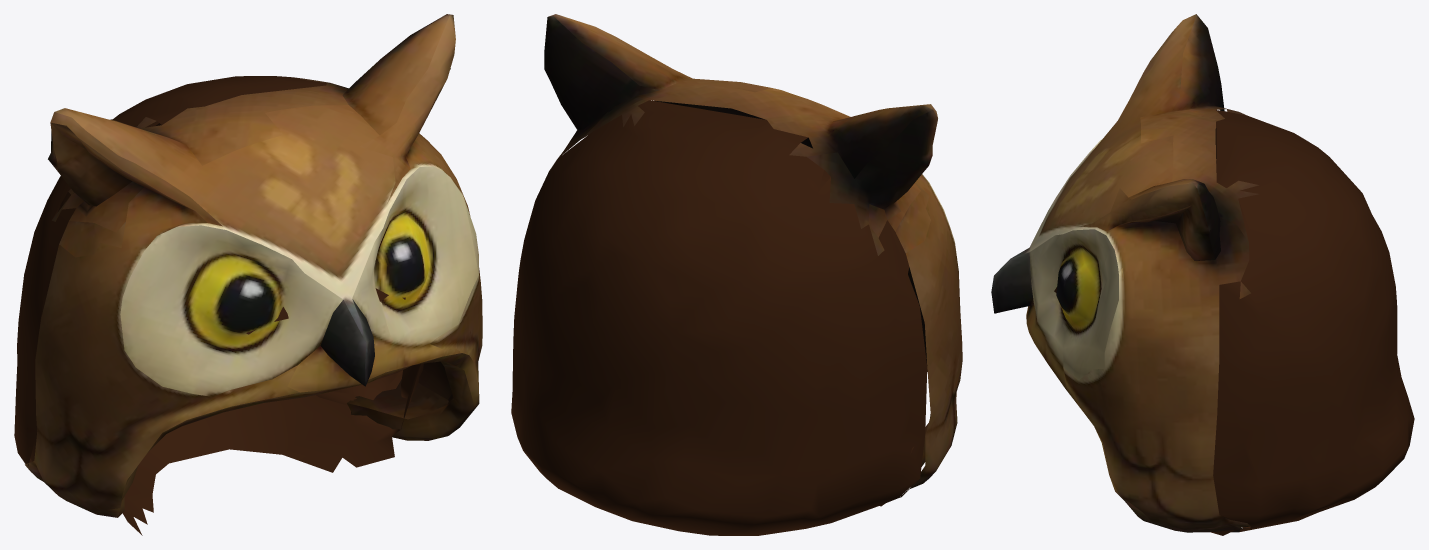
The model's file is owl.glb.
3 views of the same model, side by side, from view 1: azimuth 30°, elevation 25°; view 2: azimuth 150°, elevation 25°; view 3: azimuth 270°, elevation 25° (orthographic). The views are drawn at different scales.
Visible parts, largest first — view 1: geometry_0, HoodAnatomicalLining; view 2: geometry_0, HoodAnatomicalLining; view 3: geometry_0.
Part boxes in pixels (x1,y1,x2,y2): geometry_0: (14,14,482,517); HoodAnatomicalLining: (26,279,423,535); geometry_0: (511,14,962,535); HoodAnatomicalLining: (818,170,913,506); geometry_0: (991,14,1414,532).
Bounding box in the file's own units: 0.531 × 0.5324 × 0.5245.
2 materials, 1 textured.
